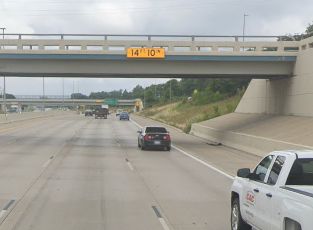0: (149, 48, 157, 57)
1: (146, 48, 151, 58), (130, 48, 134, 57)
4: (133, 48, 140, 57)
overheadsign: (125, 47, 165, 60)
